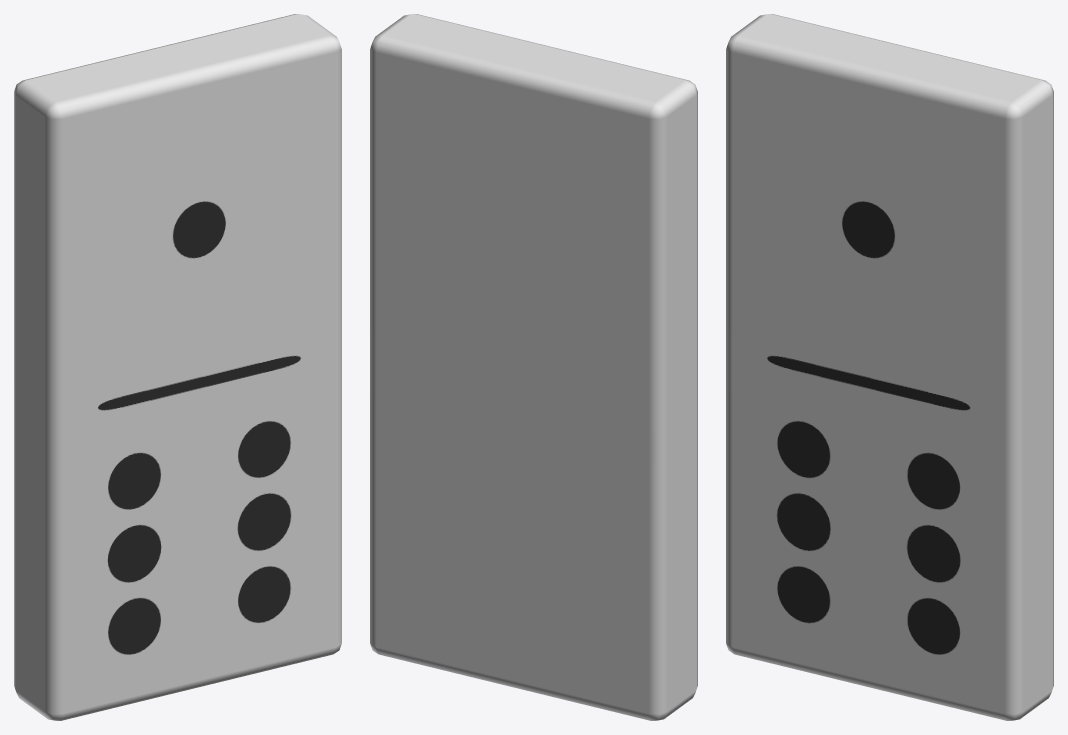
3 renders of one model, left to right at view 1: azimuth 30°, elevation 25°; view 2: azimuth 150°, elevation 25°; view 3: azimuth 330°, elevation 25°, orthographic.
Parts seen in each view (by area): view 1: Low; view 2: Low; view 3: Low.
Part boxes in pixels (left/top/right/bottom): Low: left=14, top=14, right=341, bottom=720; Low: left=370, top=14, right=697, bottom=720; Low: left=726, top=14, right=1053, bottom=720.
Size of the model in its own units: 0.0254 by 0.0508 by 0.00635.
1 material, 1 textured.
